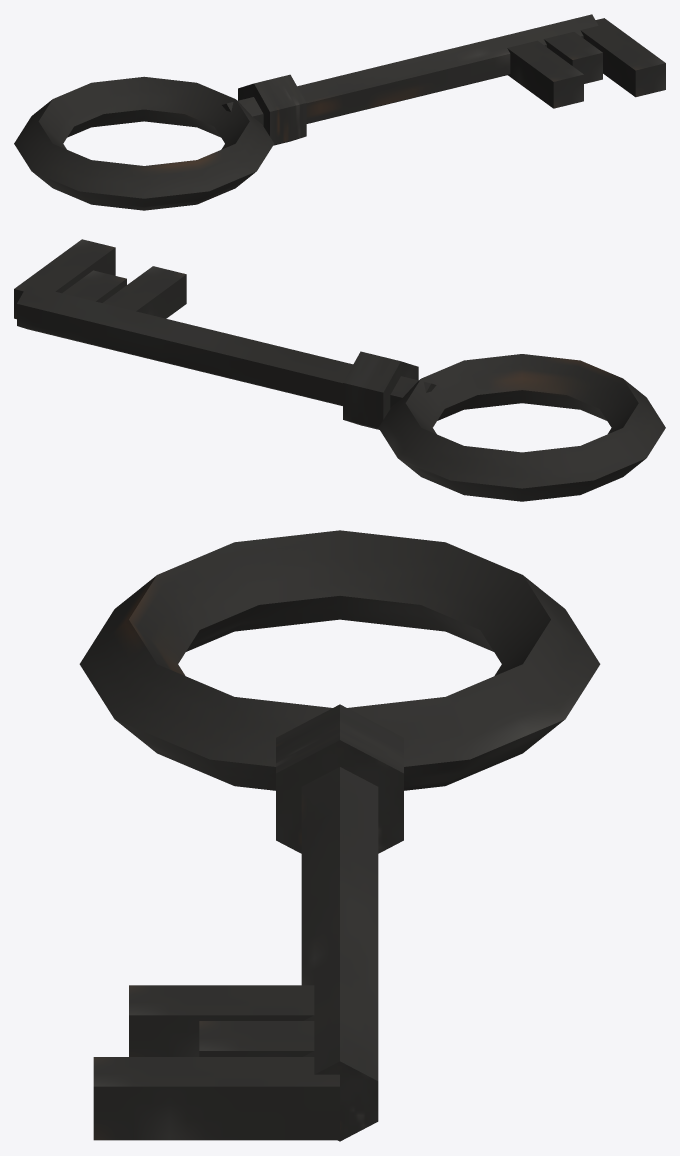
The model's file is key_iron.obj.
3 renders of one model, top to bottom at view 1: azimuth 30°, elevation 25°; view 2: azimuth 150°, elevation 25°; view 3: azimuth 270°, elevation 25°, orthographic. The views are drawn at different scales.
Parts seen in each view (by area): view 1: key_iron; view 2: key_iron; view 3: key_iron.
Part boxes in pixels (bbox=[...]): key_iron: bbox=[14, 14, 665, 210]; key_iron: bbox=[14, 239, 665, 501]; key_iron: bbox=[79, 530, 600, 1141].
Size of the model in its own units: 0.188 by 0.021 by 0.074.
Materials: 1 (1 with a texture image).
